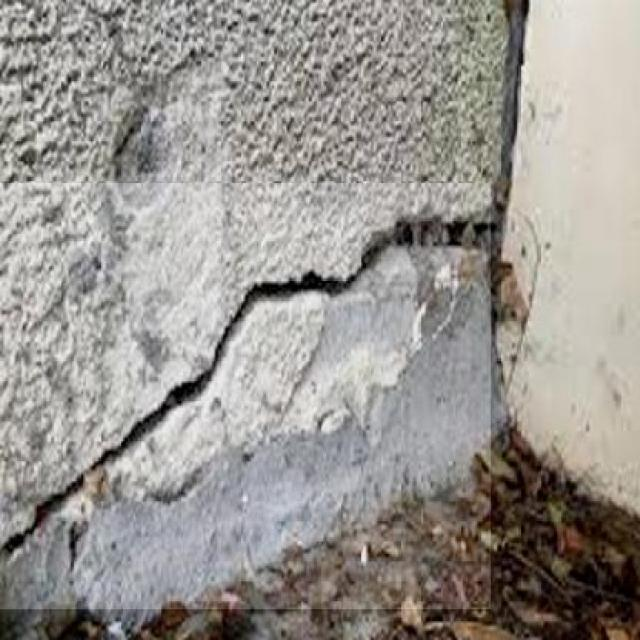Crack: (0, 185, 499, 575)
